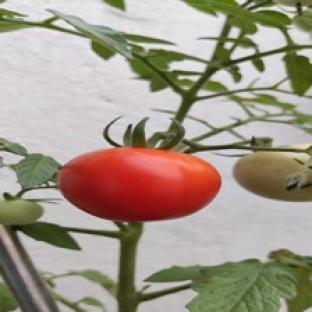Tomato: (59, 148, 221, 221), (233, 152, 311, 201), (0, 200, 43, 225), (293, 10, 311, 33)
